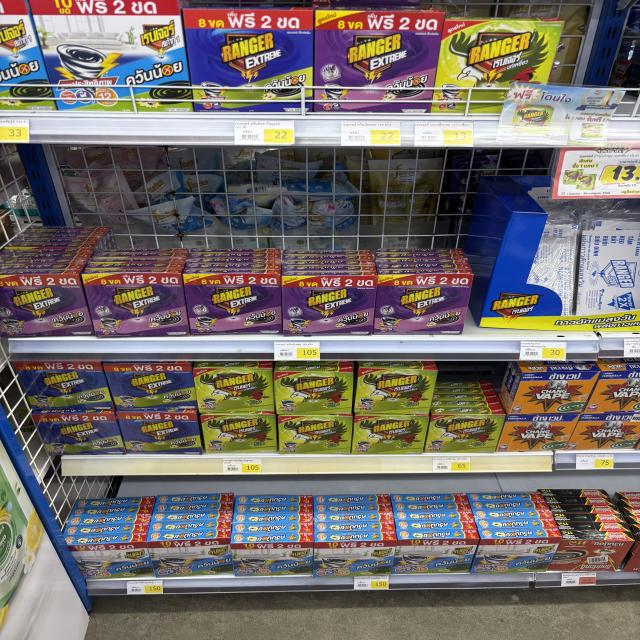empty_shelf: (433, 369, 514, 414)
